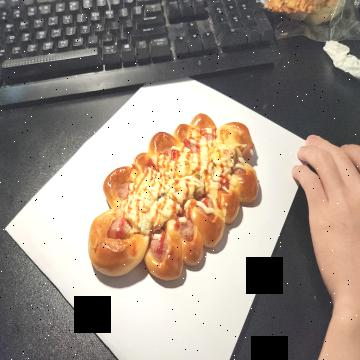pizza_bread: (88, 115, 259, 277)
